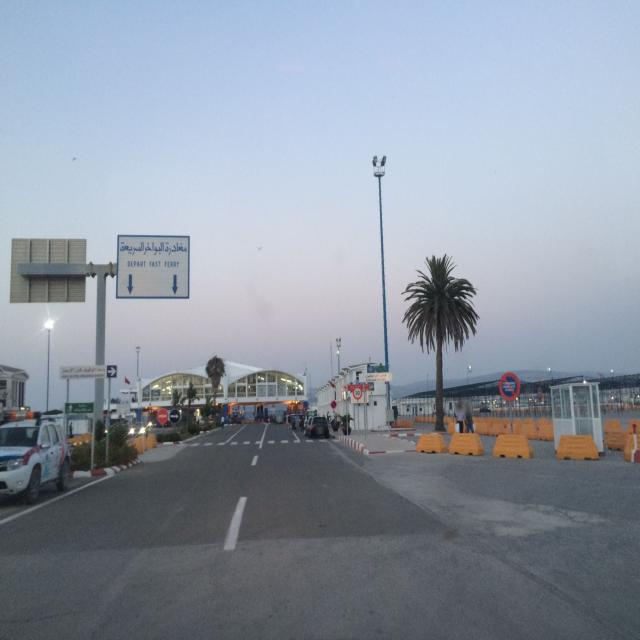forb_stopping: (331, 400, 337, 409)
